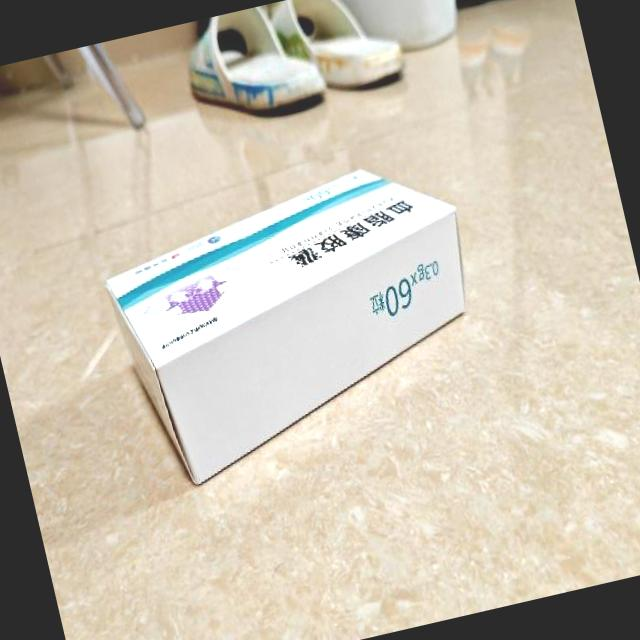box: (93, 150, 504, 496)
